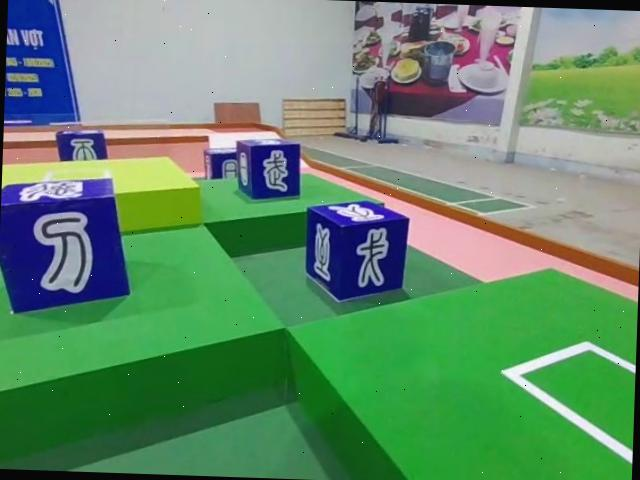R2 Fake Blue: (0, 172, 136, 320), (301, 198, 409, 304), (234, 138, 306, 203), (57, 129, 112, 166)
